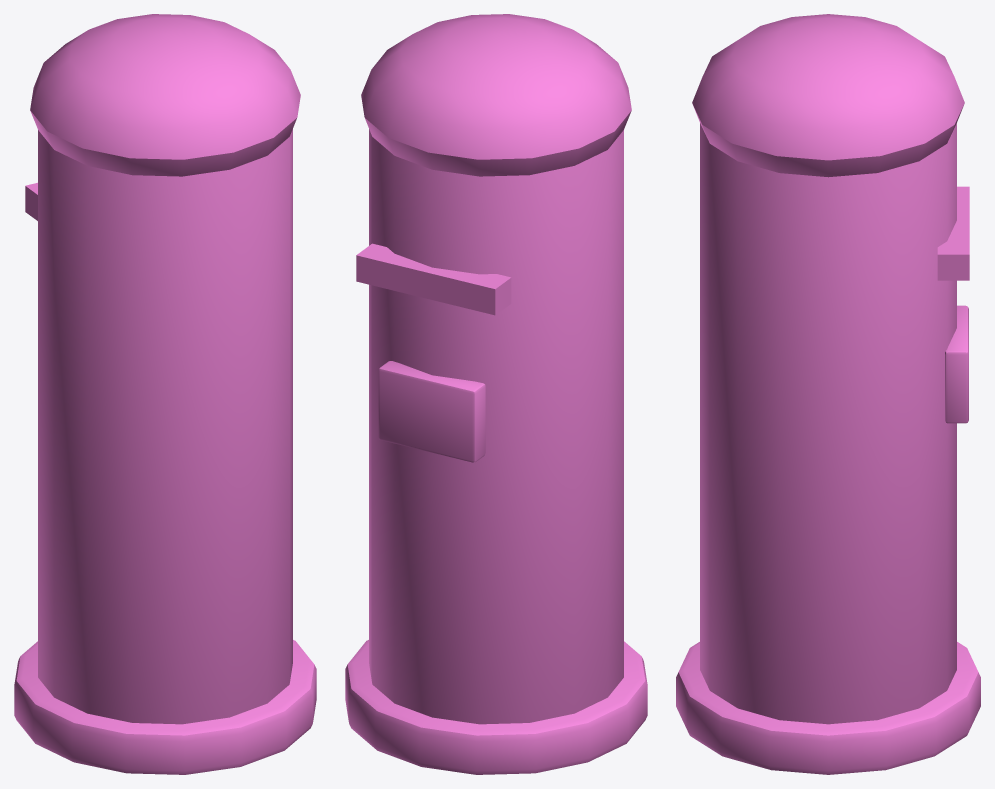
The model's file is Street_Postbox.fbx.
The picture shows the model from 3 angles, left to right: view 1: azimuth 30°, elevation 25°; view 2: azimuth 150°, elevation 25°; view 3: azimuth 270°, elevation 25°; orthographic projection.
Visible parts, largest first — view 1: Postbox; view 2: Postbox; view 3: Postbox.
Part boxes in pixels (x1,y1,x2,y2): Postbox: (14,14,316,774); Postbox: (345,14,647,774); Postbox: (676,14,980,774).
Size of the model in its own units: 1.9 by 4.67 by 1.9.
1 material, 1 textured.
